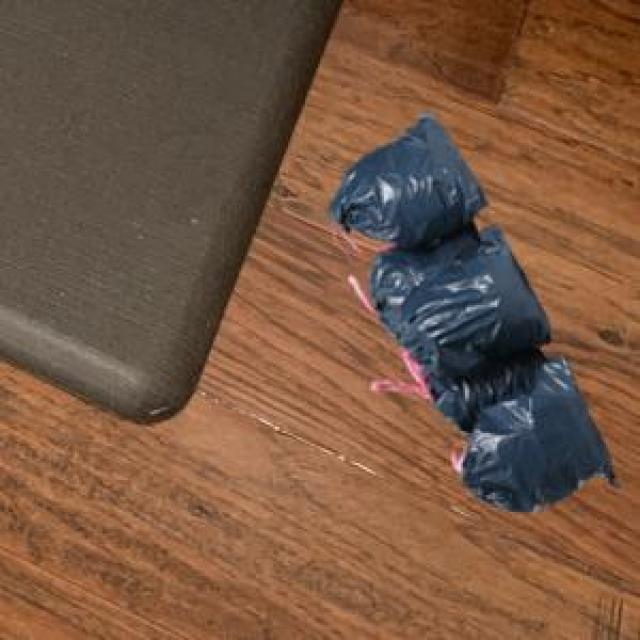waste: (331, 115, 611, 511)
